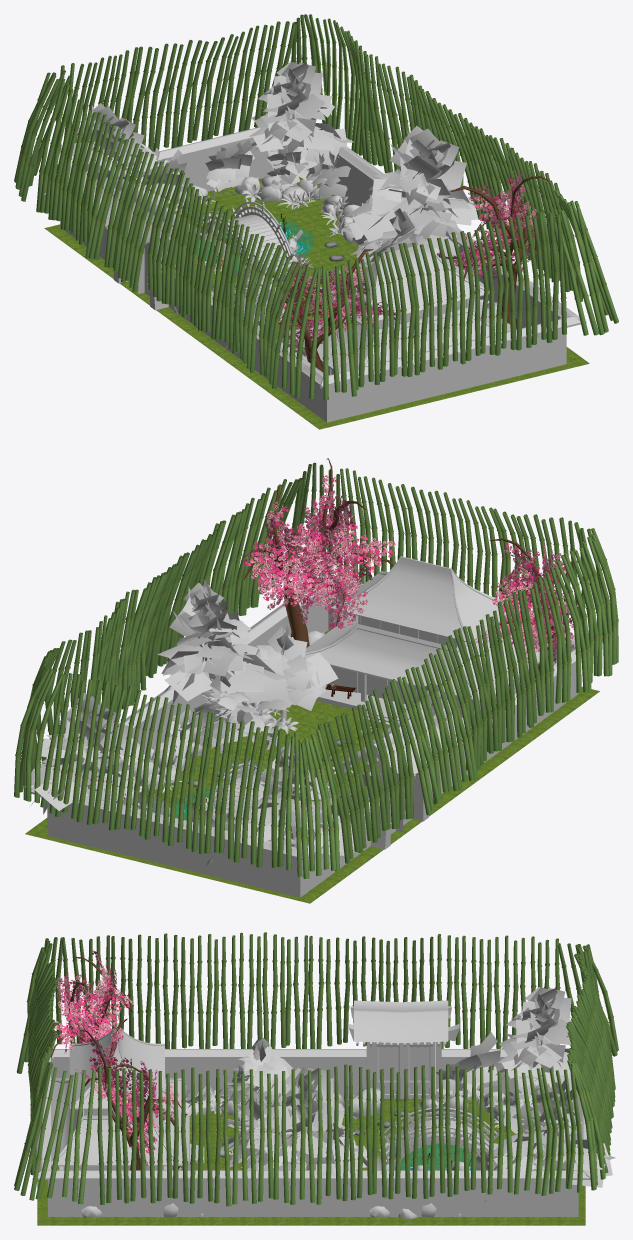
Rendered from greybox.fbx.
3 views of the same model, one above another, from view 1: azimuth 30°, elevation 25°; view 2: azimuth 150°, elevation 25°; view 3: azimuth 270°, elevation 25° (orthographic). The views are drawn at different scales.
Parts seen in each view (by area): view 1: Bamboo60, polySurface1731, polySurface1568, Ground, Tree_Green_01, Tree_Green_02, Dojo_clean1:Dojo, Tree_Blossom1, Bridge_Clean3:Bridge, Tree_Green_03, Bamboo43, Bamboo59 (+47 smaller); view 2: polySurface1568, polySurface1731, Dojo_clean1:Dojo, Tree_Blossom1, Bamboo60, Ground, Tree_Green_01, Tree_Green_02, Tree_Red_01, Tree_Green_03, Tree_red_02, Gate2 (+44 smaller); view 3: polySurface1731, Ground, Dojo_clean1:Dojo, Gate2, Tree_Green_03, polySurface1568, Tree_Green_01, Tree_Blossom1, Tree_Green_02, Bamboo60, Bridge_Clean3:Bridge, Tree_red_03 (+55 smaller).
Part boxes in pixels (bbox=[...]): Bamboo60: bbox=[347, 211, 566, 390]; polySurface1731: bbox=[308, 14, 582, 301]; polySurface1568: bbox=[69, 21, 296, 152]; Ground: bbox=[44, 174, 589, 429]; Tree_Green_01: bbox=[346, 125, 479, 259]; Tree_Green_02: bbox=[249, 61, 354, 185]; Dojo_clean1:Dojo: bbox=[283, 243, 516, 374]; Tree_Blossom1: bbox=[437, 172, 550, 328]; Bridge_Clean3:Bridge: bbox=[195, 197, 294, 274]; Tree_Green_03: bbox=[44, 103, 159, 206]; Bamboo43: bbox=[282, 267, 318, 398]; Bamboo59: bbox=[555, 205, 604, 335]; polySurface1568: bbox=[40, 673, 278, 867]; polySurface1731: bbox=[19, 478, 302, 792]; Dojo_clean1:Dojo: bbox=[305, 556, 553, 725]; Tree_Blossom1: bbox=[241, 458, 395, 647]; Bamboo60: bbox=[340, 468, 570, 632]; Ground: bbox=[25, 630, 599, 903]; Tree_Green_01: bbox=[157, 580, 297, 704]; Tree_Green_02: bbox=[24, 692, 144, 814]; Tree_Red_01: bbox=[254, 625, 338, 724]; Tree_Green_03: bbox=[234, 741, 365, 855]; Tree_red_02: bbox=[188, 671, 265, 753]; Gate2: bbox=[342, 708, 451, 849]; polySurface1731: bbox=[62, 1064, 583, 1206]; Ground: bbox=[37, 1094, 585, 1225]; Dojo_clean1:Dojo: bbox=[51, 1023, 204, 1170]; Gate2: bbox=[348, 1000, 459, 1102]; Tree_Green_03: bbox=[495, 987, 573, 1098]; polySurface1568: bbox=[565, 953, 615, 1173]; Tree_Green_01: bbox=[246, 1068, 363, 1176]; Tree_Blossom1: bbox=[75, 1018, 181, 1170]; Tree_Green_02: bbox=[488, 1081, 615, 1187]; Bamboo60: bbox=[27, 952, 57, 1175]; Bridge_Clean3:Bridge: bbox=[378, 1107, 498, 1166]; Tree_red_03: bbox=[220, 1036, 292, 1117].
Size of the model in its own units: 9.96 by 5.18 by 15.28.
